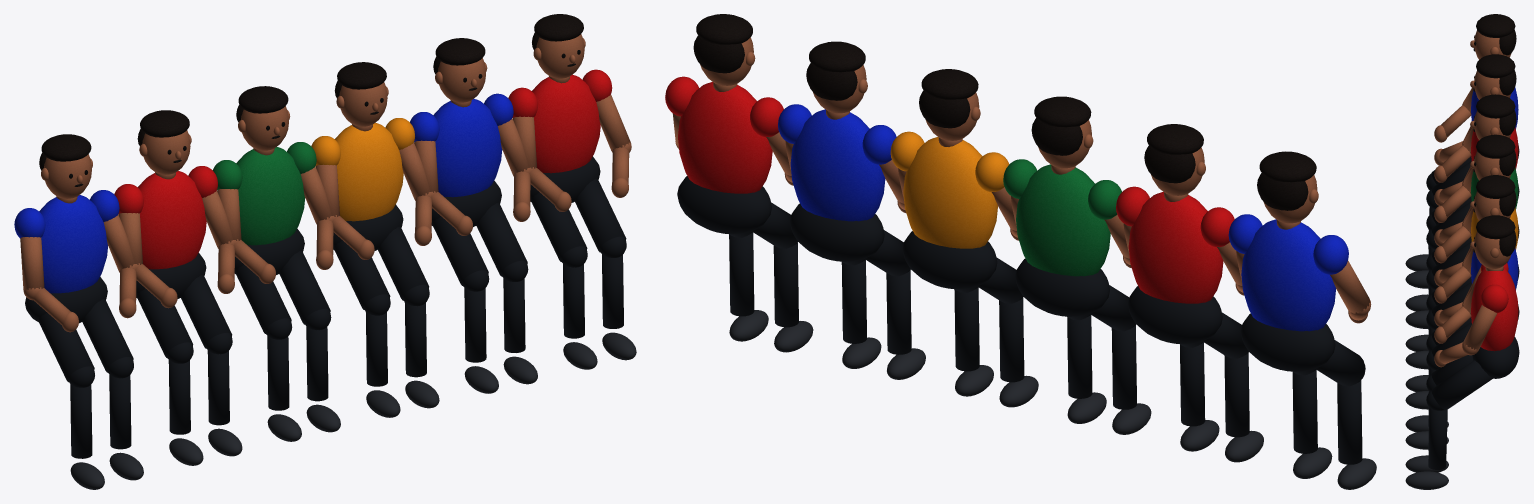
Rendered from espectadores.obj.
3 renders of one model, left to right at view 1: azimuth 30°, elevation 25°; view 2: azimuth 150°, elevation 25°; view 3: azimuth 270°, elevation 25°, orthographic. The views are drawn at different scales.
Parts seen in each view (by area): view 1: Espectador_01_Torso, Espectador_03_Torso, Espectador_05_Torso, Espectador_02_Torso, Espectador_04_Torso, Espectador_06_Torso, Espectador_03_Muslo_Derecho, Espectador_05_Muslo_Derecho, Espectador_01_Muslo_Derecho, Espectador_06_Muslo_Derecho, Espectador_02_Muslo_Derecho, Espectador_04_Muslo_Derecho (+66 smaller); view 2: Espectador_03_Torso, Espectador_05_Torso, Espectador_01_Torso, Espectador_04_Torso, Espectador_06_Torso, Espectador_02_Torso, Espectador_04_Cadera, Espectador_02_Cadera, Espectador_06_Cadera, Espectador_05_Cadera, Espectador_01_Cadera, Espectador_03_Cadera (+61 smaller); view 3: Espectador_06_Torso, Espectador_06_Muslo_Derecho, Espectador_06_Cadera, Espectador_06_Pierna_Derecho, Espectador_06_Brazo_Derecho, Espectador_06_Cabeza, Espectador_03_Cabello_Superior, Espectador_02_Cabello_Superior, Espectador_04_Cabello_Superior, Espectador_06_Cabello_Superior, Espectador_01_Cabello_Superior, Espectador_05_Cabello_Superior (+57 smaller).
Part boxes in pixels (left/top/right/bottom): Espectador_01_Torso: left=39, top=195, right=107, bottom=293; Espectador_03_Torso: left=236, top=147, right=305, bottom=245; Espectador_05_Torso: left=433, top=99, right=502, bottom=197; Espectador_02_Torso: left=138, top=171, right=206, bottom=269; Espectador_04_Torso: left=335, top=123, right=403, bottom=221; Espectador_06_Torso: left=532, top=74, right=600, bottom=173; Espectador_03_Muslo_Derecho: left=279, top=250, right=330, bottom=324; Espectador_05_Muslo_Derecho: left=476, top=202, right=527, bottom=276; Espectador_01_Muslo_Derecho: left=82, top=298, right=133, bottom=372; Espectador_06_Muslo_Derecho: left=575, top=178, right=626, bottom=252; Espectador_02_Muslo_Derecho: left=181, top=274, right=232, bottom=348; Espectador_04_Muslo_Derecho: left=378, top=226, right=429, bottom=300; Espectador_03_Torso: left=1016, top=164, right=1110, bottom=276; Espectador_05_Torso: left=790, top=109, right=885, bottom=221; Espectador_01_Torso: left=1241, top=219, right=1336, bottom=331; Espectador_04_Torso: left=903, top=137, right=997, bottom=248; Espectador_06_Torso: left=678, top=82, right=772, bottom=193; Espectador_02_Torso: left=1128, top=192, right=1223, bottom=303; Espectador_04_Cadera: left=902, top=231, right=997, bottom=289; Espectador_02_Cadera: left=1128, top=286, right=1222, bottom=344; Espectador_06_Cadera: left=677, top=176, right=771, bottom=234; Espectador_05_Cadera: left=790, top=203, right=884, bottom=261; Espectador_01_Cadera: left=1240, top=313, right=1335, bottom=371; Espectador_03_Cadera: left=1015, top=258, right=1109, bottom=316; Espectador_06_Torso: left=1471, top=267, right=1518, bottom=351; Espectador_06_Muslo_Derecho: left=1431, top=360, right=1492, bottom=410; Espectador_06_Cadera: left=1472, top=337, right=1519, bottom=378; Espectador_06_Pierna_Derecho: left=1428, top=408, right=1447, bottom=469; Espectador_06_Brazo_Derecho: left=1463, top=305, right=1497, bottom=350; Espectador_06_Cabeza: left=1474, top=231, right=1510, bottom=268; Espectador_03_Cabello_Superior: left=1476, top=94, right=1515, bottom=118; Espectador_02_Cabello_Superior: left=1476, top=54, right=1515, bottom=78; Espectador_04_Cabello_Superior: left=1476, top=134, right=1515, bottom=158; Espectador_06_Cabello_Superior: left=1476, top=215, right=1515, bottom=239; Espectador_01_Cabello_Superior: left=1476, top=14, right=1515, bottom=37; Espectador_05_Cabello_Superior: left=1476, top=175, right=1515, bottom=198.
Bounding box in the file's own units: 2.95 × 1.45 × 0.575.
Materials: 9 (6 with a texture image).
